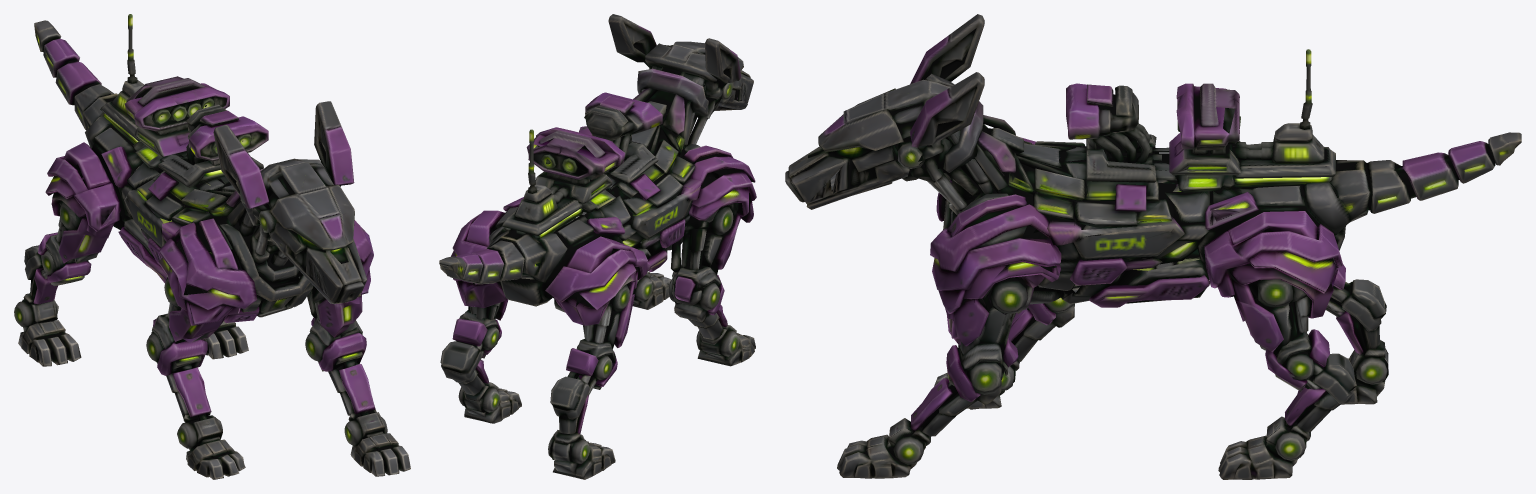
Rendered from hound_l04-meshy-source.glb.
The picture shows the model from 3 angles, left to right: view 1: azimuth 30°, elevation 25°; view 2: azimuth 150°, elevation 25°; view 3: azimuth 270°, elevation 25°; orthographic projection. The views are drawn at different scales.
Parts seen in each view (by area): view 1: geometry_0; view 2: geometry_0; view 3: geometry_0.
Boxes of the visible parts, x1,y1,x2,y2 form: geometry_0: (14,14,410,479); geometry_0: (439,14,756,479); geometry_0: (785,14,1521,479).
Bounding box in the file's own units: 0.334 × 0.5571 × 0.9531.
1 material, 1 textured.
